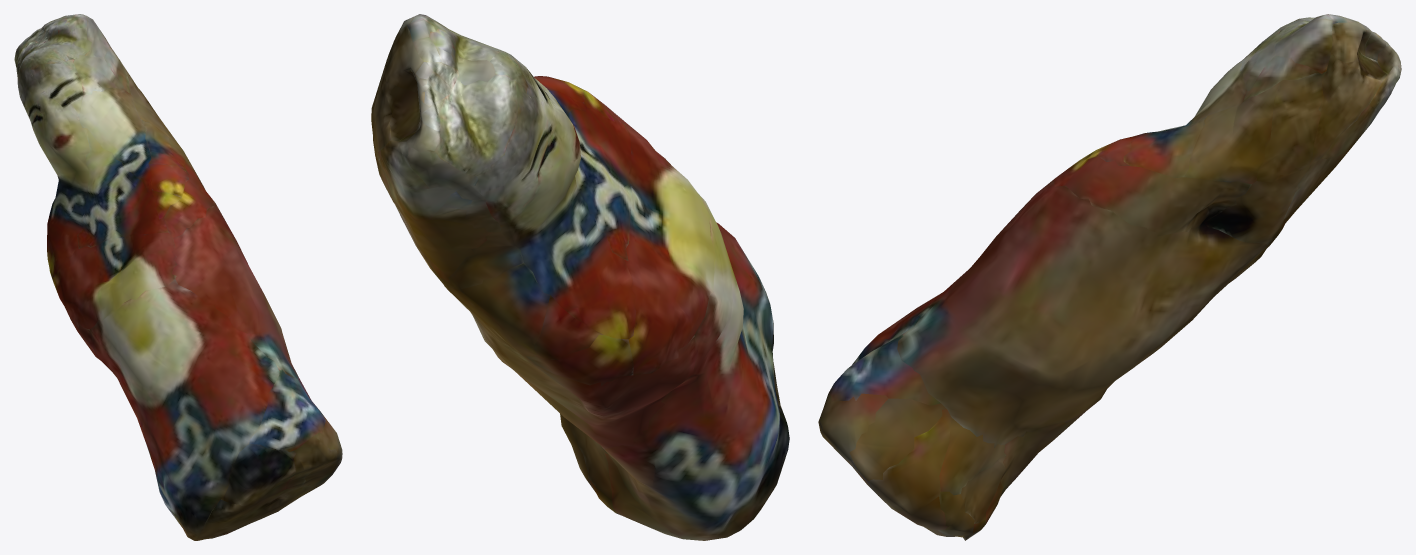
Rendered from hall.glb.
3 renders of one model, left to right at view 1: azimuth 30°, elevation 25°; view 2: azimuth 150°, elevation 25°; view 3: azimuth 270°, elevation 25°, orthographic. The views are drawn at different scales.
Size of the model in its own units: 0.3487 by 0.847 by 0.8701.
1 material, 1 textured.
